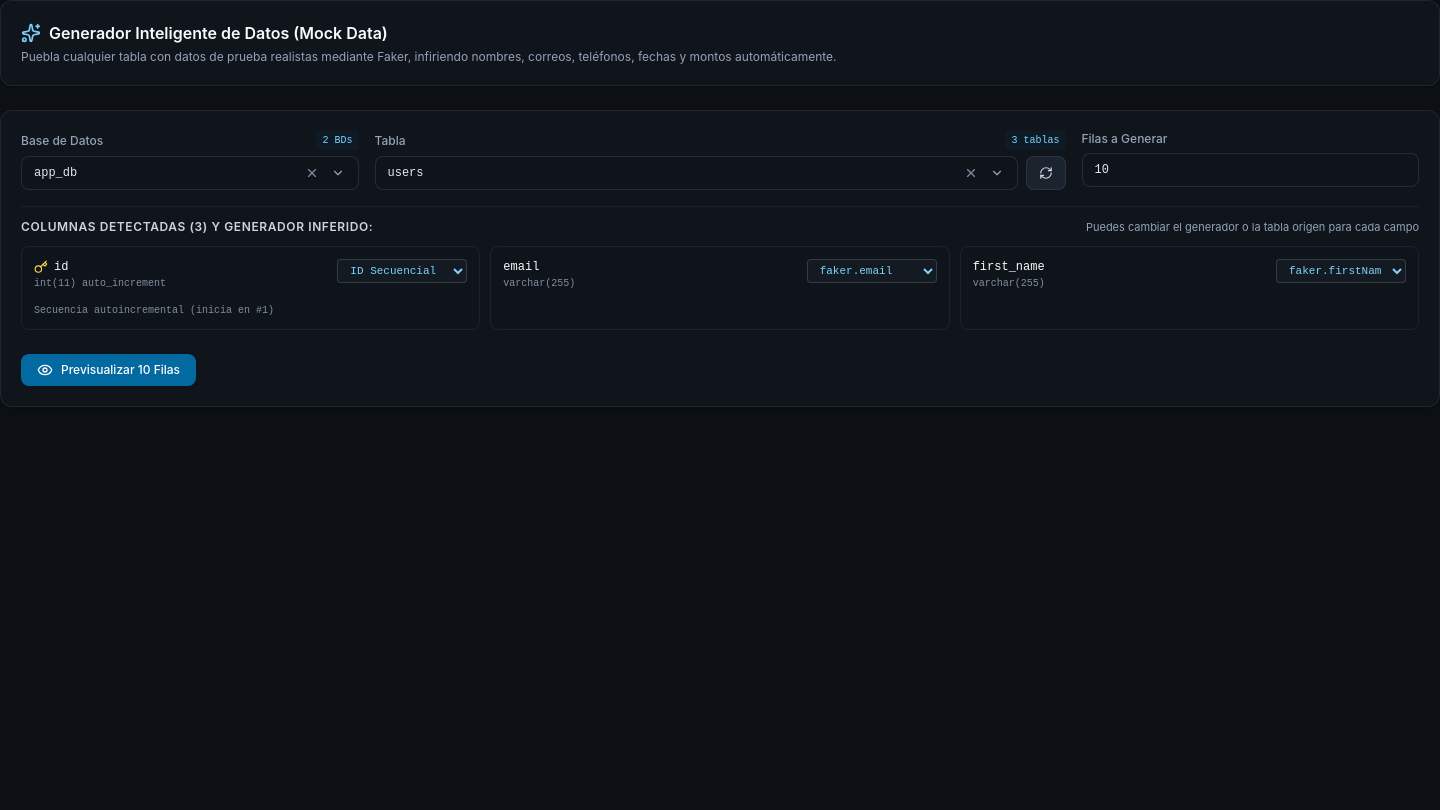
it: MockDataTab › generates the requested number of preview rows with sequential IDs
Type "5" into the number field at (1250, 170), box [1082,153,1419,187]
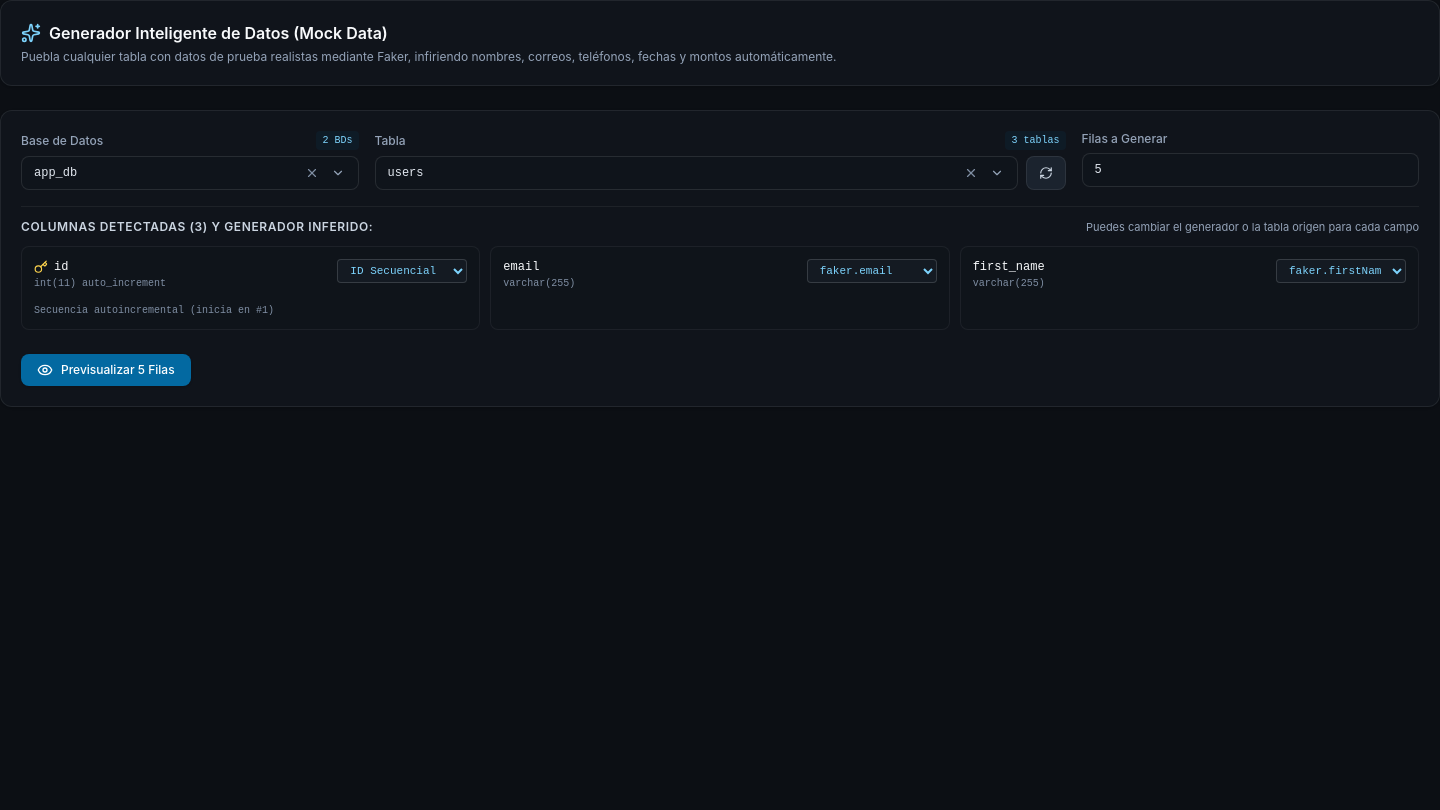
Click the button "Previsualizar 5 Filas" at (106, 370), box [21,354,191,386]
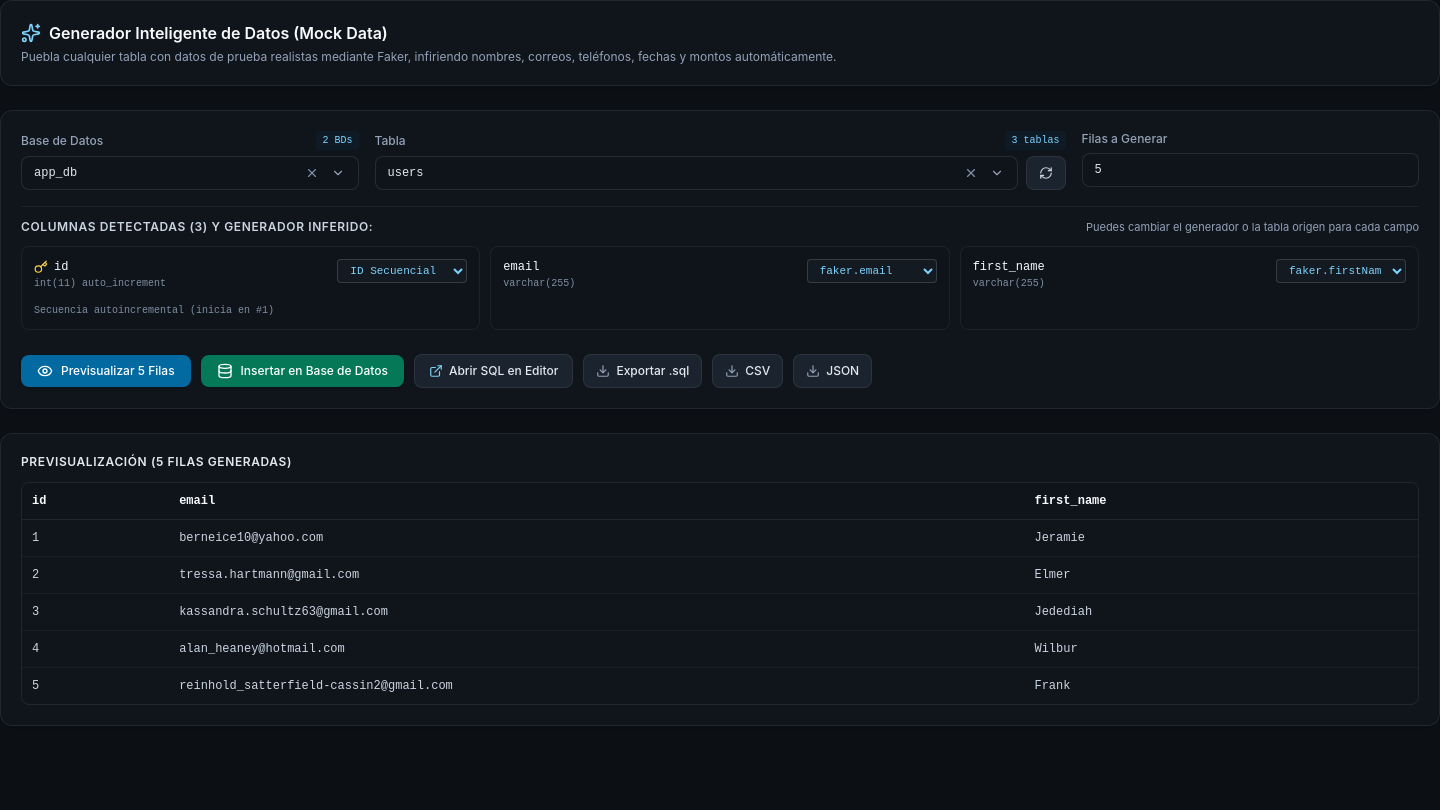
expect the text "Previsualización (5 filas generadas)" is shown: met, box [21,454,292,470]
expect the cell "1" is shown: met, box [22,520,169,557]
expect the text "@" is shown: met, box [169,520,1024,557]
